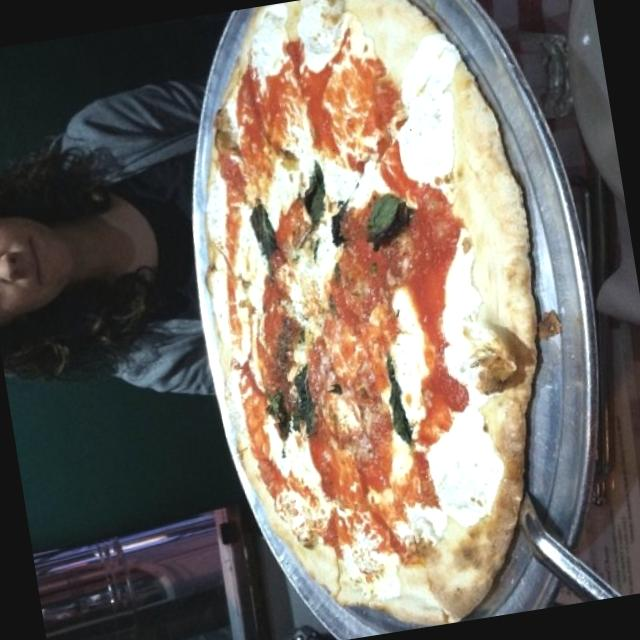basil: (377, 352, 422, 452), (354, 184, 412, 248), (288, 158, 336, 232), (286, 358, 326, 437), (245, 196, 285, 264), (323, 194, 362, 243), (254, 384, 293, 425)
cheese: (379, 56, 472, 191), (416, 412, 516, 532), (431, 242, 504, 402), (256, 128, 370, 218), (212, 210, 282, 340), (261, 414, 330, 512), (336, 526, 410, 602), (293, 0, 358, 75), (242, 7, 294, 76), (392, 496, 460, 548)
pizza: (207, 0, 538, 624)
